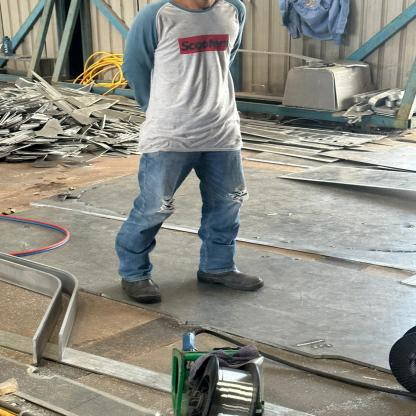bota: (192, 261, 266, 297), (111, 263, 167, 306)
